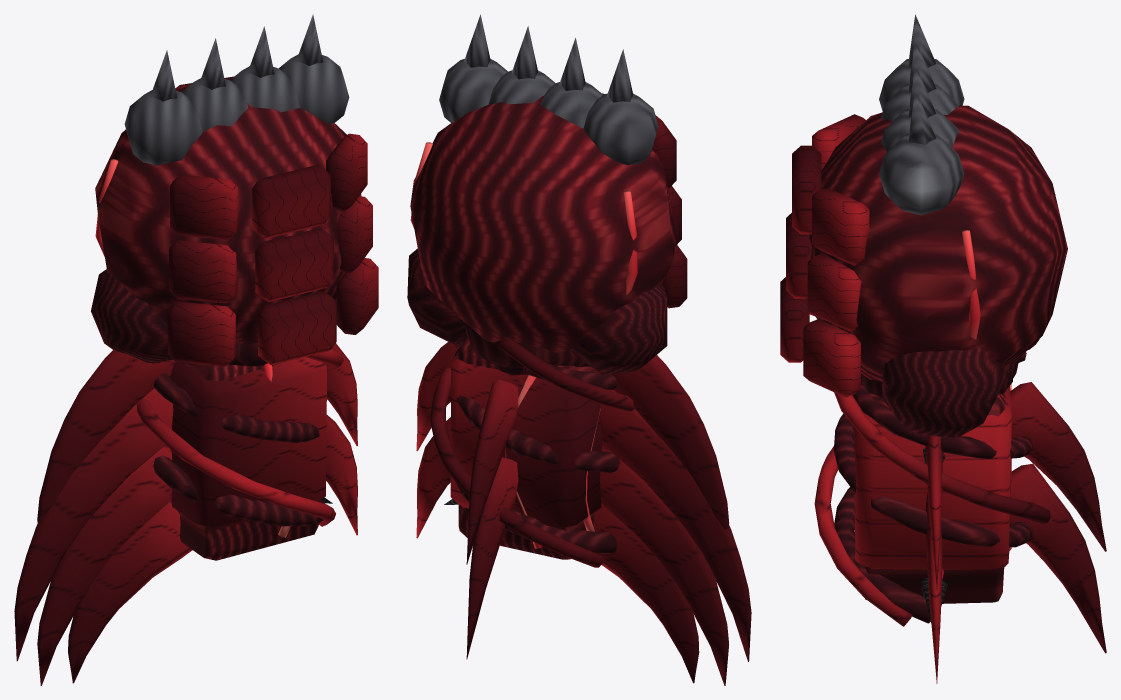
Rendered from parasite_titan_fist.obj.
3 views of the same model, side by side, from view 1: azimuth 30°, elevation 25°; view 2: azimuth 150°, elevation 25°; view 3: azimuth 270°, elevation 25° (orthographic). The views are drawn at different scales.
Parts seen in each view (by area): view 1: titan_fist; view 2: titan_fist; view 3: titan_fist.
Part boxes in pixels (x1,y1,x2,y2): titan_fist: [14, 14, 378, 685]; titan_fist: [407, 14, 751, 685]; titan_fist: [780, 14, 1106, 683].
Size of the model in its own units: 0.8856 by 1.52 by 0.6922.
